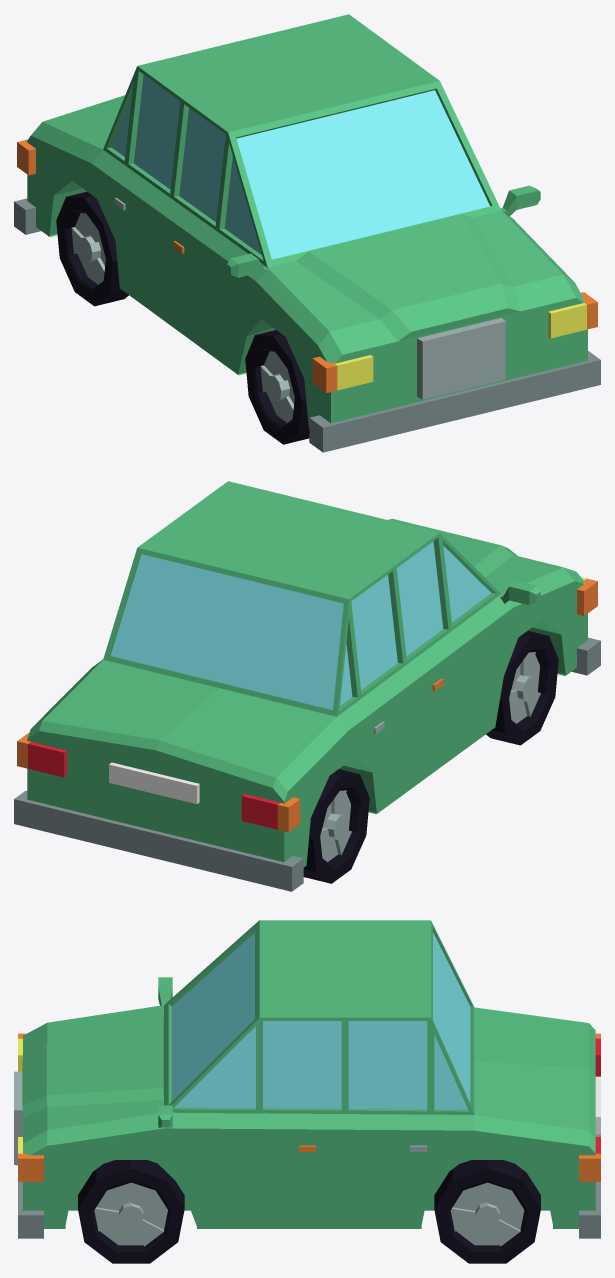
File: DefaultCar.fbx
The picture shows the model from 3 angles, top to bottom: view 1: azimuth 30°, elevation 25°; view 2: azimuth 150°, elevation 25°; view 3: azimuth 270°, elevation 25°; orthographic projection. The views are drawn at different scales.
Visible parts, largest first — view 1: Cube, Cylinder.003, Cylinder.004; view 2: Cube, Cylinder.003, Cylinder.004; view 3: Cube, Cylinder.002, Cylinder.001.
Part boxes in pixels (<box>): Cube: <box>14,14,600,452</box>; Cylinder.003: <box>56,191,128,306</box>; Cylinder.004: <box>245,330,309,444</box>; Cube: <box>14,481,600,891</box>; Cylinder.003: <box>303,769,369,883</box>; Cylinder.004: <box>486,631,558,745</box>; Cube: <box>14,920,600,1238</box>; Cylinder.002: <box>434,1160,540,1263</box>; Cylinder.001: <box>78,1160,184,1263</box>.
Size of the model in its own units: 501 by 387 by 873.
